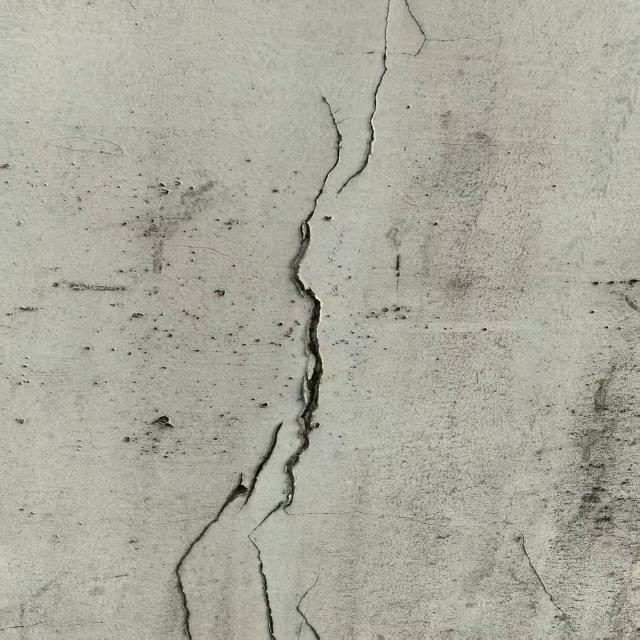crack: (236, 7, 401, 631), (159, 412, 289, 632)
